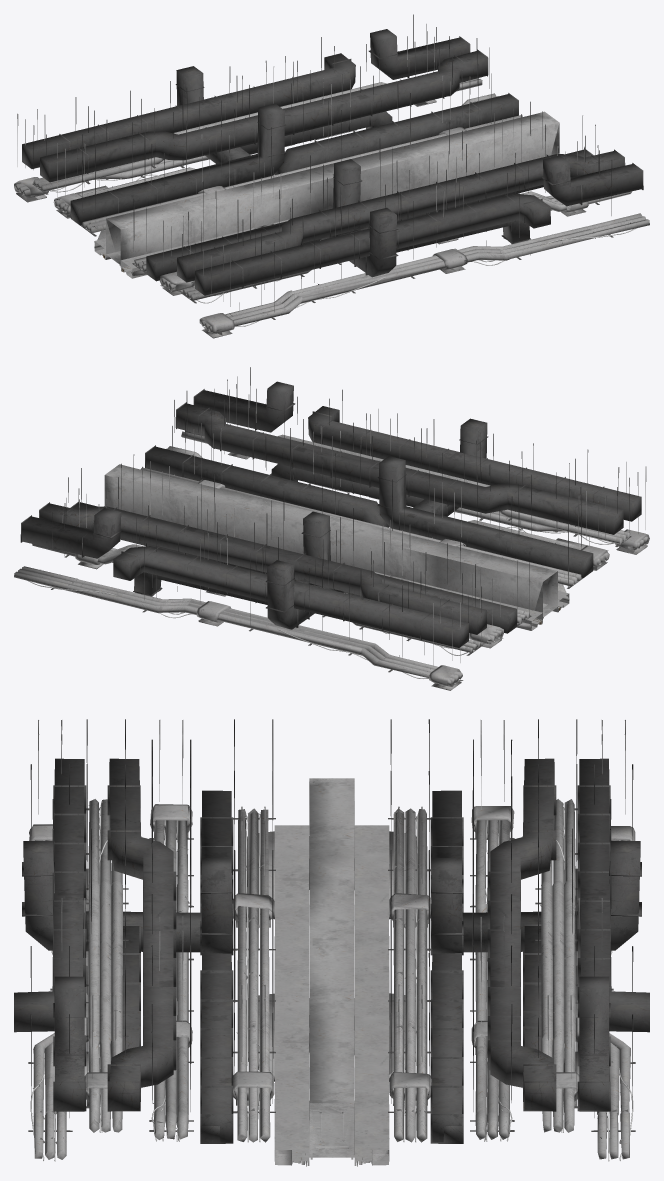
File: hangar_tavan.fbx
The picture shows the model from 3 angles, top to bottom: view 1: azimuth 30°, elevation 25°; view 2: azimuth 150°, elevation 25°; view 3: azimuth 270°, elevation 25°; orthographic projection. The views are drawn at different scales.
Visible parts, largest first — view 1: A_01_11, A_01_15, A_01_13, A_01_10, A_01_16; view 2: A_01_11, A_01_15, A_01_13, A_01_10, A_01_16; view 3: A_01_11, A_01_13, A_01_15, A_01_10, A_01_16.
Part boxes in pixels (box(x1,y1,x2,y2)): A_01_11: box(22, 29, 643, 295); A_01_15: box(94, 111, 559, 278); A_01_13: box(14, 31, 649, 338); A_01_10: box(32, 14, 613, 319); A_01_16: box(18, 159, 637, 331); A_01_11: box(20, 381, 641, 647); A_01_15: box(104, 464, 569, 630); A_01_13: box(14, 384, 649, 690); A_01_10: box(51, 367, 631, 672); A_01_16: box(27, 512, 645, 684); A_01_11: box(14, 758, 649, 1143); A_01_13: box(29, 720, 635, 1159); A_01_15: box(246, 778, 417, 1166); A_01_10: box(28, 719, 635, 1131); A_01_16: box(30, 807, 633, 1161).
Size of the model in its own units: 900 by 173 by 745.
